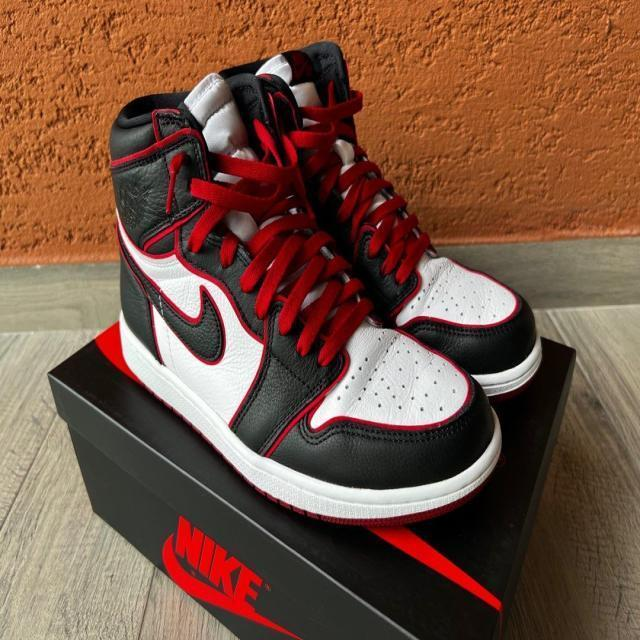nike original jordan 1: (107, 68, 507, 530), (234, 42, 546, 404)
